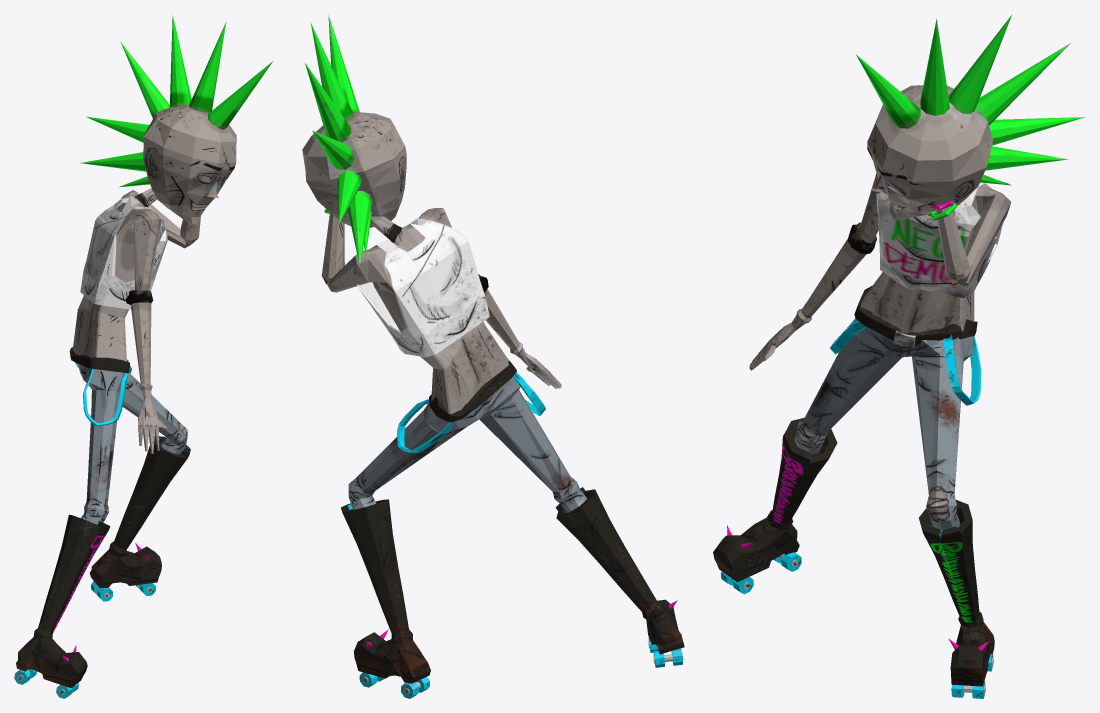
The model's file is punkAnimation_000034.obj.
3 views of the same model, side by side, from view 1: azimuth 30°, elevation 25°; view 2: azimuth 150°, elevation 25°; view 3: azimuth 270°, elevation 25° (orthographic). The views are drawn at different scales.
Parts seen in each view (by area): view 1: Cube.004_Cube.003; view 2: Cube.004_Cube.003; view 3: Cube.004_Cube.003.
Part boxes in pixels (left/top/right/bottom): Cube.004_Cube.003: left=14, top=15, right=272, bottom=698; Cube.004_Cube.003: left=302, top=14, right=684, bottom=698; Cube.004_Cube.003: left=713, top=15, right=1085, bottom=698.
Bounding box in the file's own units: 3.59 × 6.71 × 3.14.
